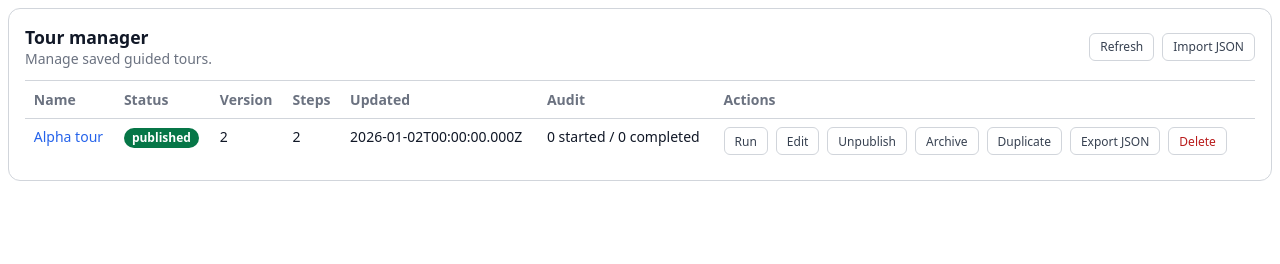
Test: TkTourManagerComponent › renders a mobile card list with tour details and actions
Click the button "Alpha tour" at coordinates (68, 137), box top-left (34, 127), bottom-right (103, 146)
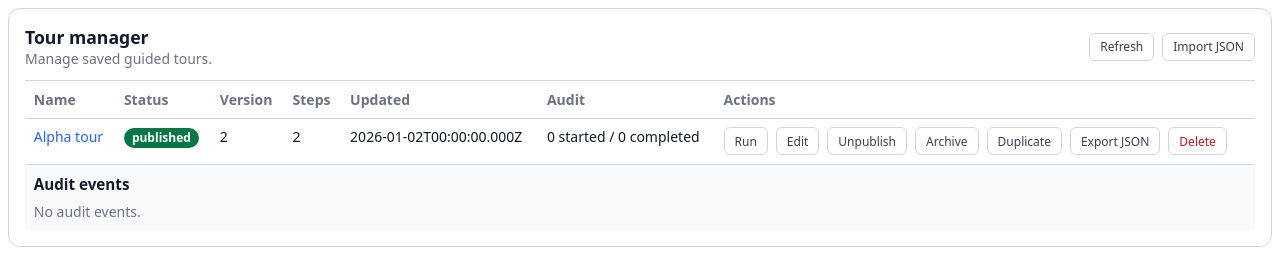
Expected: the text "Audit events" is shown, top-left (34, 174), bottom-right (130, 194)
